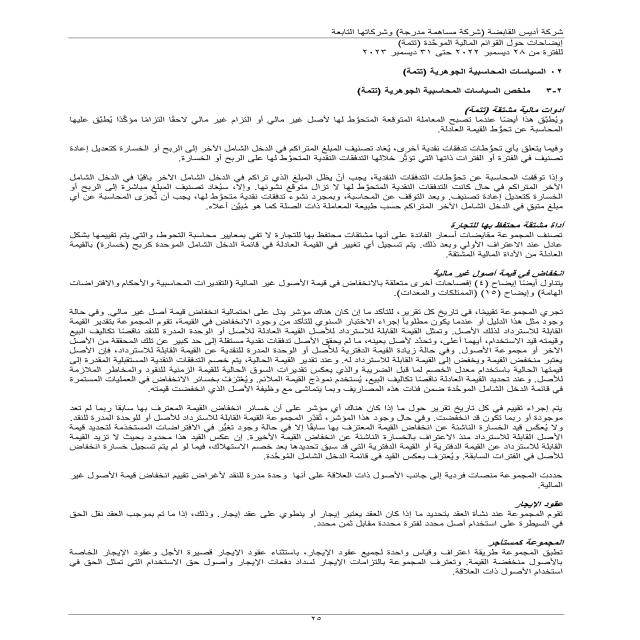notes: (392, 40, 566, 50)
text: (48, 78, 595, 588)
